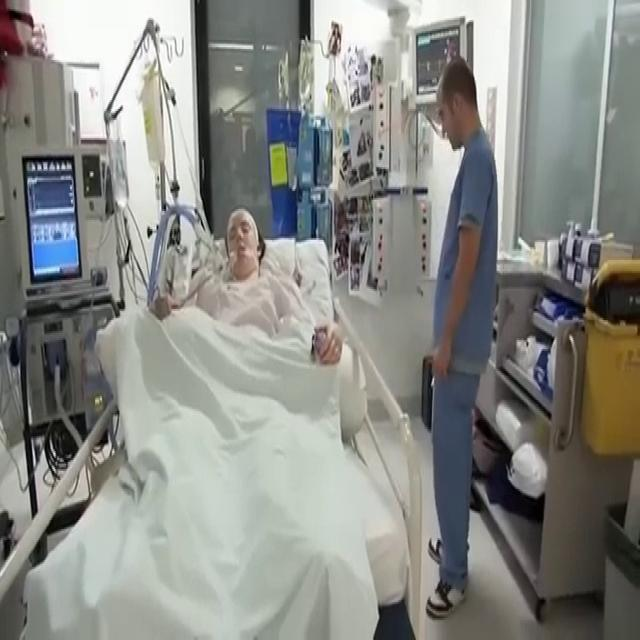monitor: (20, 149, 87, 289), (410, 16, 468, 106)
nurse: (424, 55, 499, 620)
patient: (19, 206, 419, 638), (153, 204, 342, 367)
